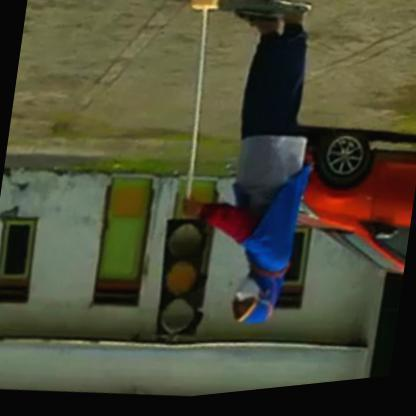yellow: (148, 216, 214, 347)
